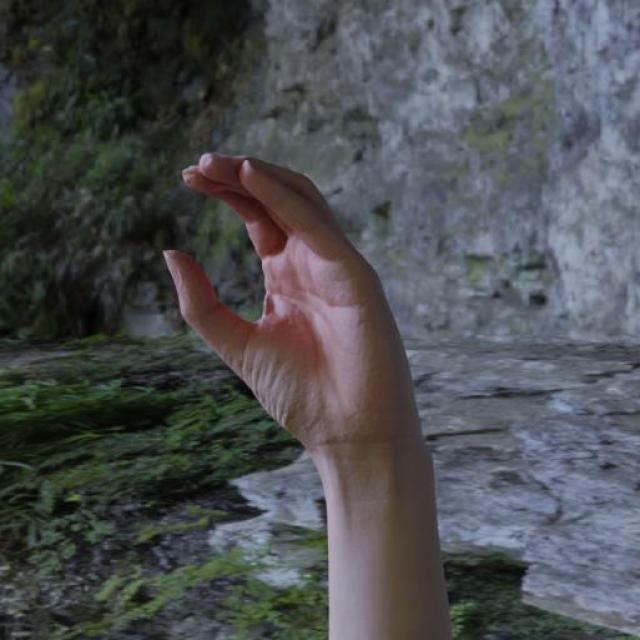C: (162, 152, 411, 446)
